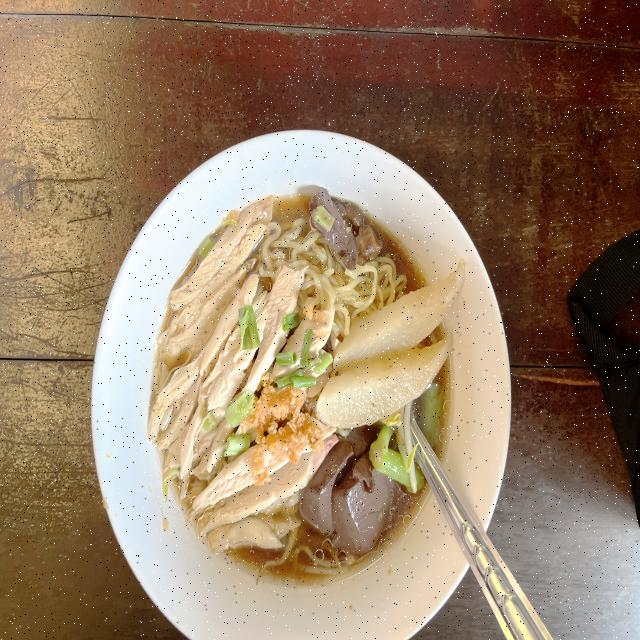boiled_chicken_blood_jelly: (314, 433, 391, 544)
chicken_shredded: (163, 213, 304, 529)
daikon_radish: (334, 262, 466, 373), (315, 341, 459, 422)
noodle: (142, 174, 478, 598)
